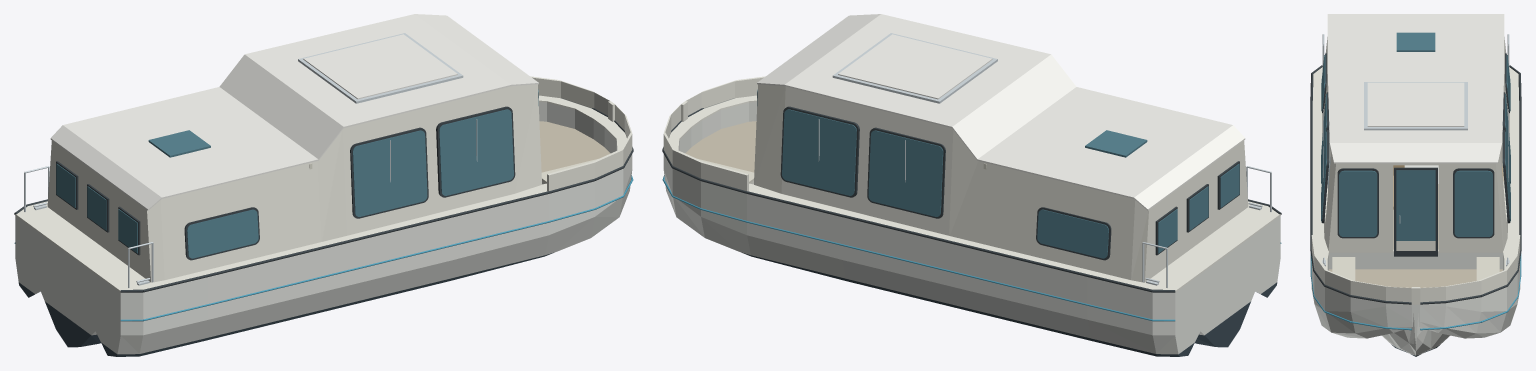
The model's file is Renaud8000_reference.glb.
3 views of the same model, side by side, from view 1: azimuth 30°, elevation 25°; view 2: azimuth 150°, elevation 25°; view 3: azimuth 270°, elevation 25° (orthographic). The views are drawn at different scales.
Parts seen in each view (by area): view 1: topsides_proxy, stepped_roof, stepped_cabin_side_shell, perimeter_deck, sliding_hatch_panel, side_-1_2_pane, side_-1_1_pane, stern_bulkhead, front_bulwark_proxy, side_-1_0_pane, lower_hull_proxy, front_well_floor (+8 smaller); view 2: topsides_proxy, stepped_roof, stepped_cabin_side_shell, perimeter_deck, sliding_hatch_panel, side_1_2_pane, side_1_1_pane, stern_bulkhead, front_bulwark_proxy, side_1_0_pane, lower_hull_proxy, front_well_floor (+8 smaller); view 3: stepped_roof, topsides_proxy, front_bulkhead, sliding_hatch_panel, perimeter_deck, front_bulwark_proxy, front_door_glass, front_window_glass_-1, front_window_glass_1, stepped_cabin_side_shell, front_well_floor, front_door_frame (+17 smaller).
Boxes of the visible parts, x1=… form: topsides_proxy: x1=15, y1=102, x2=632, y2=354; stepped_roof: x1=50, y1=14, x2=538, y2=210; stepped_cabin_side_shell: x1=47, y1=84, x2=541, y2=282; perimeter_deck: x1=15, y1=95, x2=626, y2=292; sliding_hatch_panel: x1=303, y1=34, x2=457, y2=99; side_-1_2_pane: x1=439, y1=109, x2=513, y2=195; side_-1_1_pane: x1=352, y1=130, x2=427, y2=216; stern_bulkhead: x1=48, y1=141, x2=150, y2=280; front_bulwark_proxy: x1=530, y1=76, x2=632, y2=191; side_-1_0_pane: x1=187, y1=209, x2=258, y2=258; lower_hull_proxy: x1=18, y1=252, x2=553, y2=356; front_well_floor: x1=539, y1=121, x2=610, y2=172; topsides_proxy: x1=663, y1=102, x2=1280, y2=354; stepped_roof: x1=757, y1=14, x2=1245, y2=210; stepped_cabin_side_shell: x1=754, y1=84, x2=1248, y2=282; perimeter_deck: x1=669, y1=95, x2=1280, y2=292; sliding_hatch_panel: x1=838, y1=34, x2=992, y2=99; side_1_2_pane: x1=782, y1=109, x2=856, y2=195; side_1_1_pane: x1=868, y1=130, x2=943, y2=216; stern_bulkhead: x1=1145, y1=141, x2=1247, y2=281; front_bulwark_proxy: x1=663, y1=76, x2=765, y2=191; side_1_0_pane: x1=1037, y1=209, x2=1108, y2=258; lower_hull_proxy: x1=742, y1=252, x2=1277, y2=356; front_well_floor: x1=685, y1=121, x2=756, y2=172; stepped_roof: x1=1327, y1=14, x2=1504, y2=163; topsides_proxy: x1=1311, y1=165, x2=1520, y2=355; front_bulkhead: x1=1328, y1=163, x2=1503, y2=252; sliding_hatch_panel: x1=1367, y1=82, x2=1464, y2=126; perimeter_deck: x1=1312, y1=67, x2=1519, y2=304; front_bulwark_proxy: x1=1311, y1=235, x2=1520, y2=303; front_door_glass: x1=1396, y1=170, x2=1435, y2=240; front_window_glass_-1: x1=1339, y1=170, x2=1377, y2=236; front_window_glass_1: x1=1454, y1=170, x2=1492, y2=236; stepped_cabin_side_shell: x1=1322, y1=37, x2=1509, y2=252; front_well_floor: x1=1329, y1=269, x2=1502, y2=287; front_door_frame: x1=1394, y1=167, x2=1437, y2=256.
Size of the model in its own units: 8.03 by 3.09 by 3.02.
